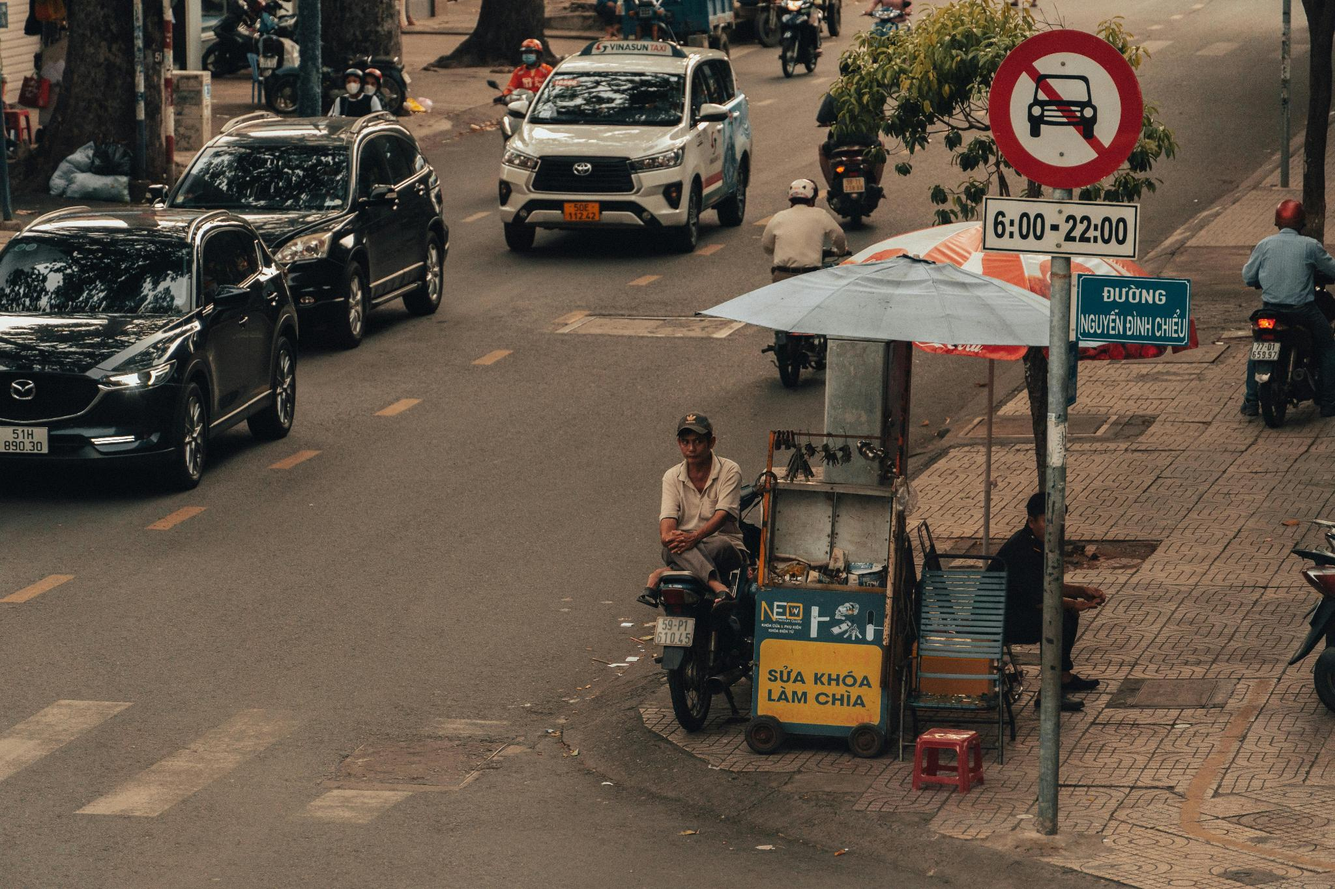car: (0, 216, 284, 472), (169, 115, 449, 348), (519, 71, 752, 246)
pedestrian: (675, 422, 742, 567), (1248, 204, 1335, 308), (765, 177, 848, 266), (328, 67, 399, 115), (497, 41, 552, 86)
